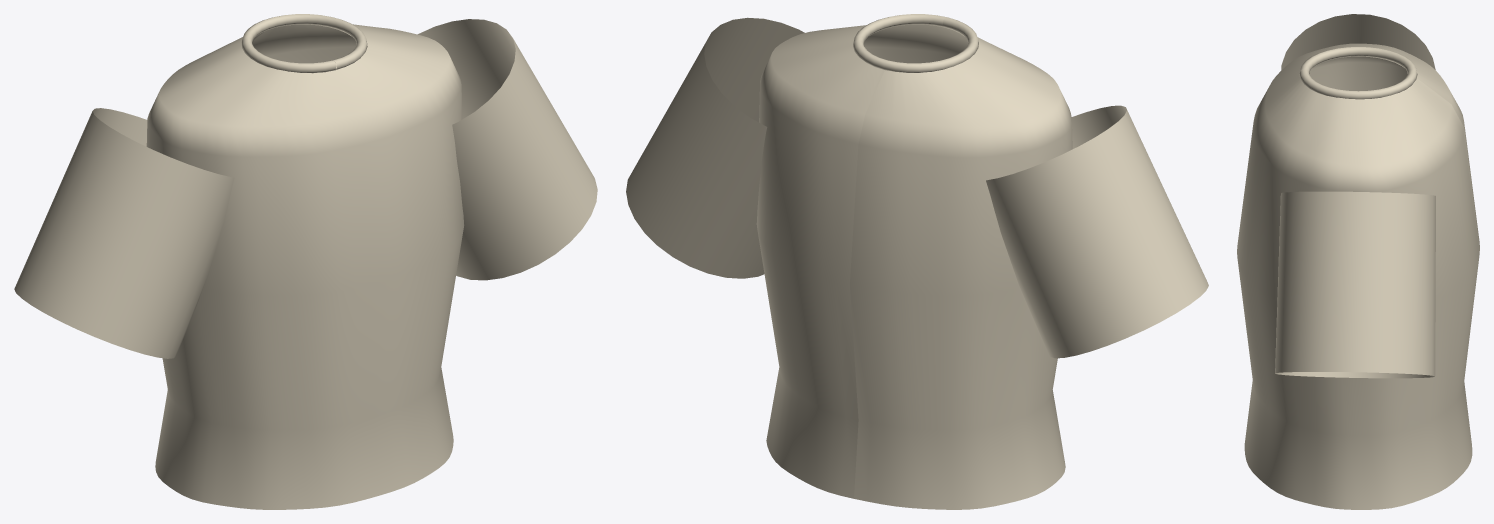
Rendered from le-coton-essentiel-femme.glb.
3 views of the same model, side by side, from view 1: azimuth 30°, elevation 25°; view 2: azimuth 150°, elevation 25°; view 3: azimuth 270°, elevation 25° (orthographic). The views are drawn at different scales.
Visible parts, largest first — view 1: edit-03, short-sleeve (×2); view 2: edit-03, short-sleeve (×2); view 3: edit-03, short-sleeve (×2).
Part boxes in pixels (bbox=[...]): edit-03: bbox=[146, 14, 464, 509]; short-sleeve (×2): bbox=[14, 19, 597, 358]; edit-03: bbox=[756, 14, 1072, 509]; short-sleeve (×2): bbox=[626, 17, 1208, 358]; edit-03: bbox=[1237, 43, 1479, 509]; short-sleeve (×2): bbox=[1275, 14, 1435, 378].
Bounding box in the file's own units: 0.6966 × 0.4965 × 0.287.
